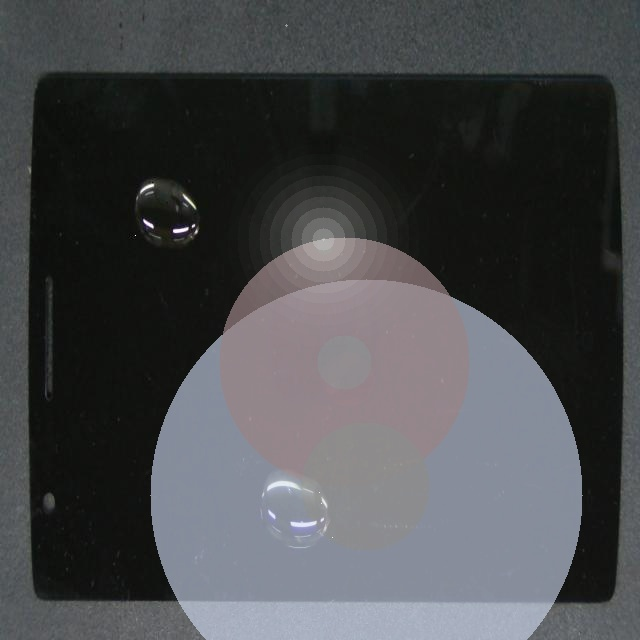oil: (132, 214, 395, 640), (103, 85, 235, 274)
